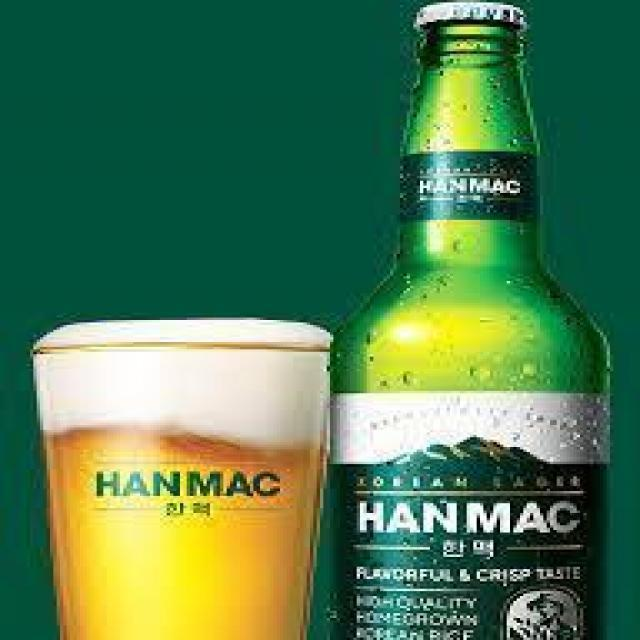beer-bottle: (322, 2, 622, 640)
